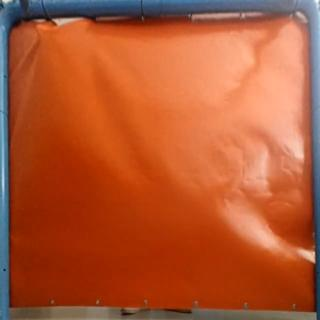Hit-hRxx: (31, 22, 49, 37)
